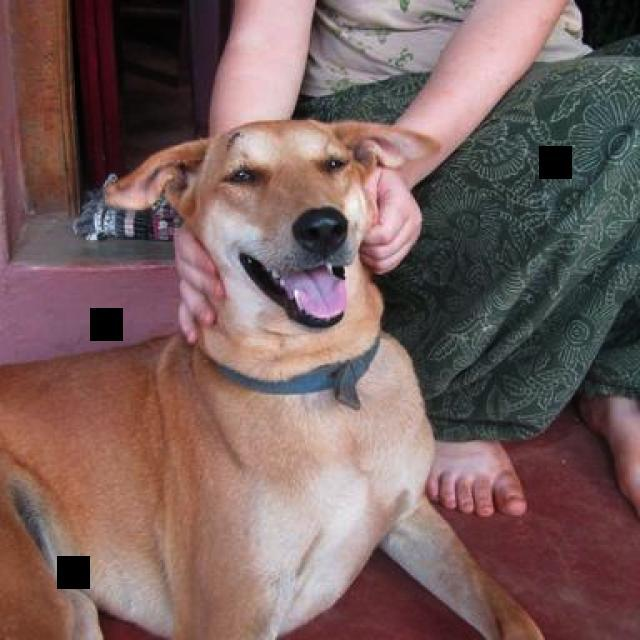adult_dog: (0, 122, 546, 640)
non-dog: (174, 1, 640, 521)
